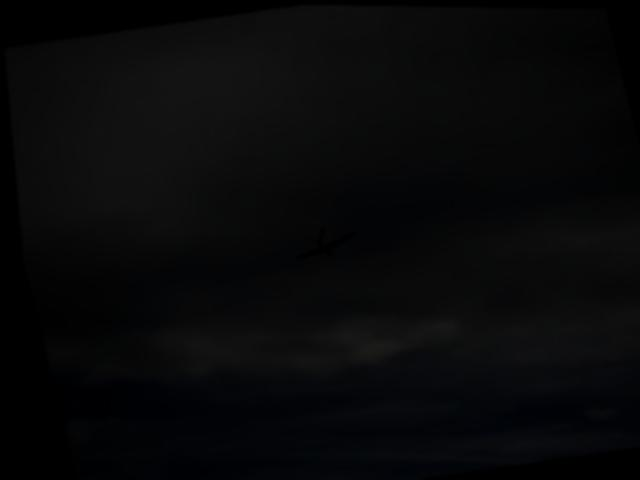uav: (274, 212, 364, 273)
